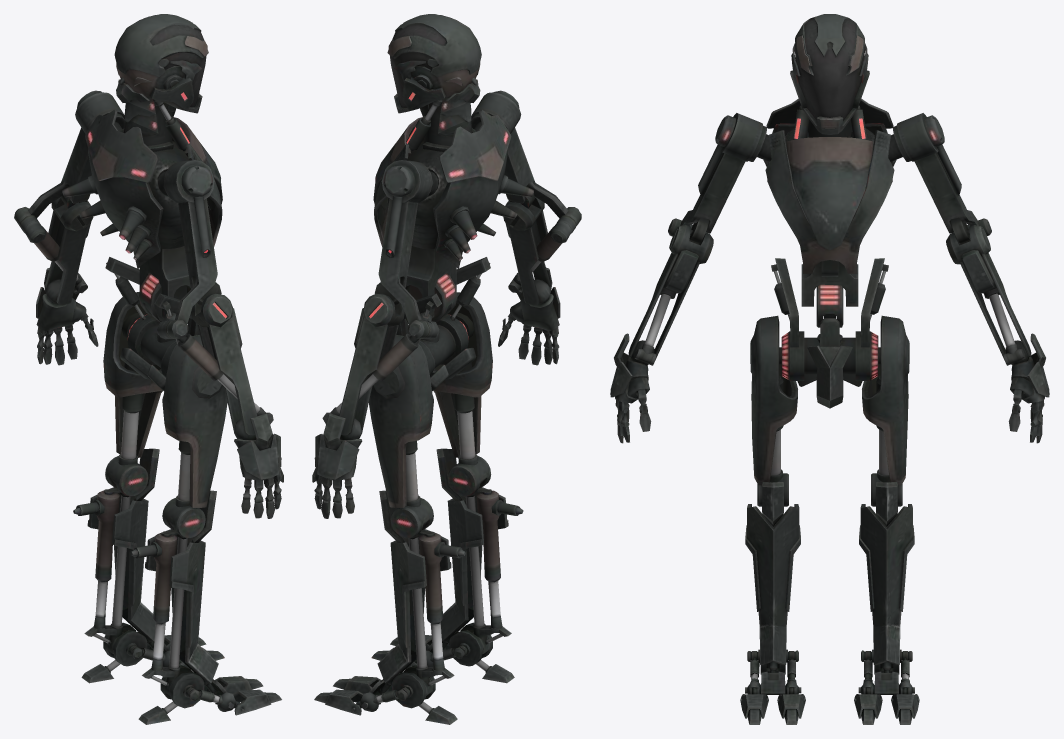
Rendered from robot.glb.
The picture shows the model from 3 angles, left to right: view 1: azimuth 30°, elevation 25°; view 2: azimuth 150°, elevation 25°; view 3: azimuth 270°, elevation 25°; orthographic projection.
Parts seen in each view (by area): view 1: Object_2, Object_4, Object_3, Object_5; view 2: Object_2, Object_4, Object_3, Object_5; view 3: Object_2, Object_4, Object_3, Object_5.
Boxes of the visible parts, x1,y1,x2,y2 form: Object_2: [14, 60, 280, 507]; Object_4: [73, 246, 281, 724]; Object_3: [36, 14, 283, 518]; Object_5: [105, 362, 216, 544]; Object_2: [315, 60, 581, 507]; Object_4: [314, 246, 523, 724]; Object_3: [312, 14, 559, 518]; Object_5: [379, 362, 491, 544]; Object_2: [610, 43, 1049, 485]; Object_4: [740, 258, 919, 724]; Object_3: [615, 14, 1044, 443]; Object_5: [757, 376, 902, 526].
Size of the model in its own units: 0.4382 by 1.86 by 1.11.
Materials: 1 (1 with a texture image).
